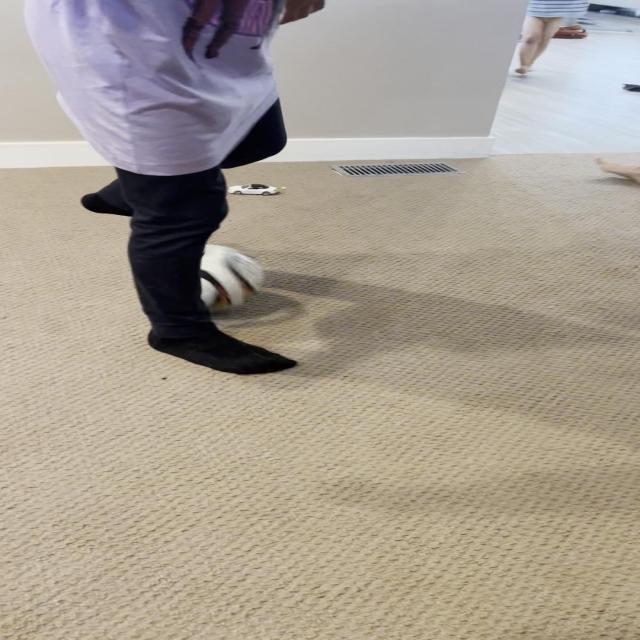Soccer Ball: (146, 244, 262, 313)
